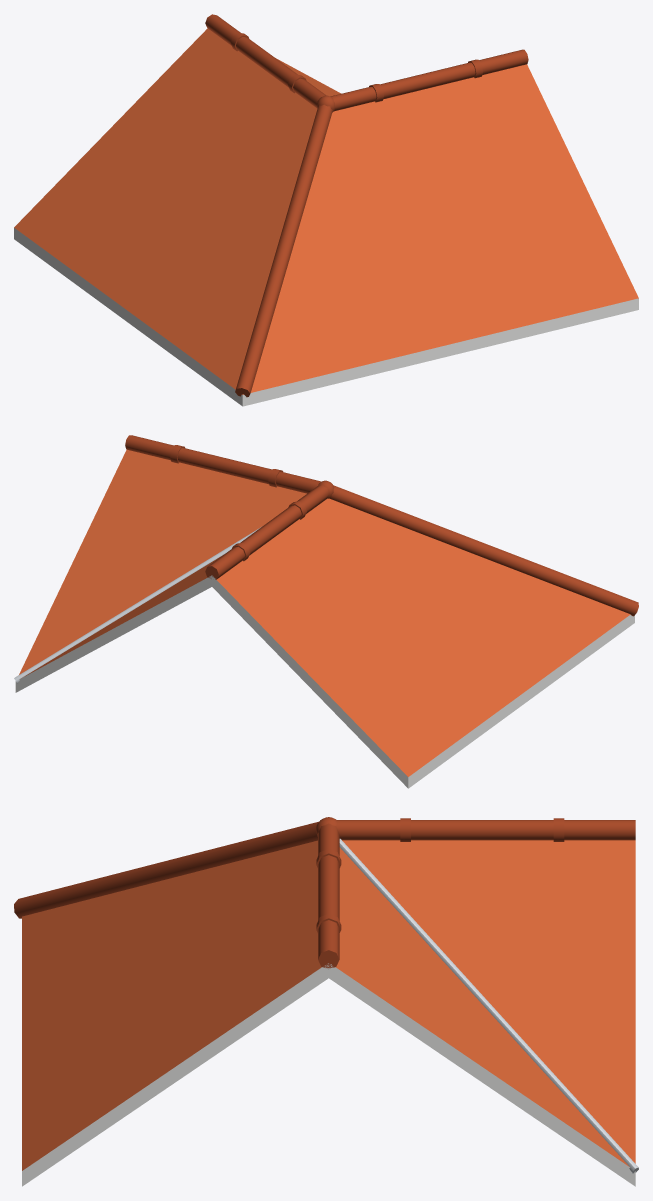
Rendered from telhado_canto_l_v4_i75.glb.
3 views of the same model, one above another, from view 1: azimuth 30°, elevation 25°; view 2: azimuth 150°, elevation 25°; view 3: azimuth 270°, elevation 25° (orthographic). The views are drawn at different scales.
Parts seen in each view (by area): view 1: telhado_canto_l_v4_i75; view 2: telhado_canto_l_v4_i75; view 3: telhado_canto_l_v4_i75.
Boxes of the visible parts, bbox=[...] form: telhado_canto_l_v4_i75: bbox=[14, 14, 638, 406]; telhado_canto_l_v4_i75: bbox=[14, 435, 638, 788]; telhado_canto_l_v4_i75: bbox=[14, 817, 638, 1186].
Size of the model in its own units: 4.07 by 1.72 by 4.07.
Materials: 4 (1 with a texture image).
